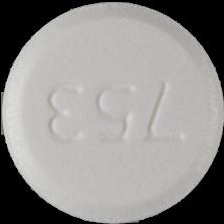42291-142: (0, 0, 224, 224)
